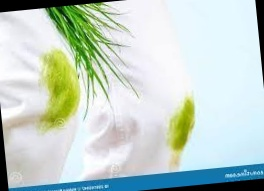earth: (40, 53, 79, 115), (172, 106, 196, 143)
